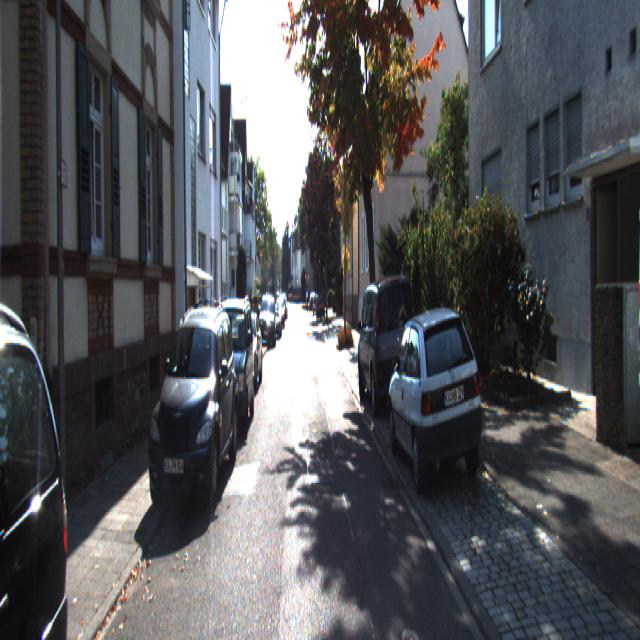Car: (0, 287, 89, 638), (143, 296, 240, 528), (386, 302, 491, 502), (354, 273, 420, 422), (206, 297, 255, 442), (626, 53, 640, 502), (226, 312, 264, 395), (258, 293, 277, 349)
